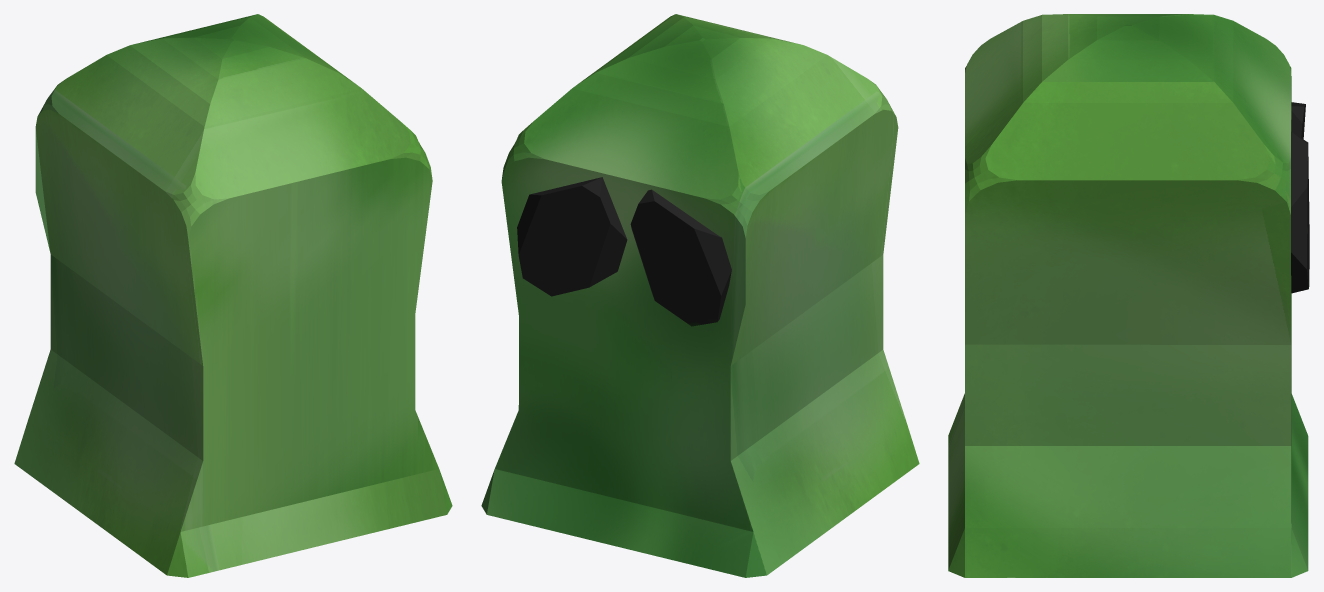
The model's file is ghostThree.fbx.
3 renders of one model, left to right at view 1: azimuth 30°, elevation 25°; view 2: azimuth 150°, elevation 25°; view 3: azimuth 270°, elevation 25°, orthographic. The views are drawn at different scales.
Parts seen in each view (by area): view 1: Cube; view 2: Cube; view 3: Cube.
Boxes of the visible parts, x1,y1,x2,y2 form: Cube: [14, 14, 452, 577]; Cube: [481, 14, 919, 577]; Cube: [948, 14, 1309, 577].
Size of the model in its own units: 0.711 by 1.06 by 0.7285.
Materials: 1 (1 with a texture image).
